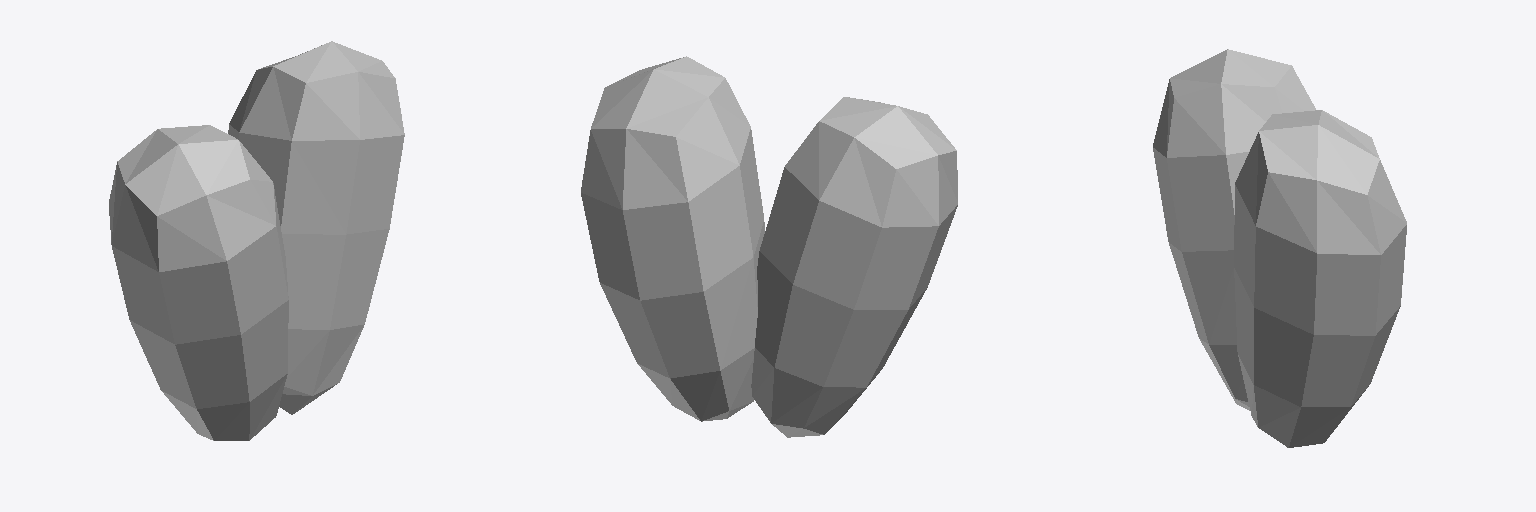
Rendered from dry_grass2.obj.
3 views of the same model, side by side, from view 1: azimuth 30°, elevation 25°; view 2: azimuth 150°, elevation 25°; view 3: azimuth 270°, elevation 25° (orthographic).
Visible parts, largest first — view 1: dry_grass2; view 2: dry_grass2; view 3: dry_grass2.
Part boxes in pixels (x1,y1,x2,y2): dry_grass2: (109, 41, 404, 440); dry_grass2: (581, 56, 957, 437); dry_grass2: (1153, 49, 1406, 447).
Size of the model in its own units: 0.997 by 1.07 by 0.6975.